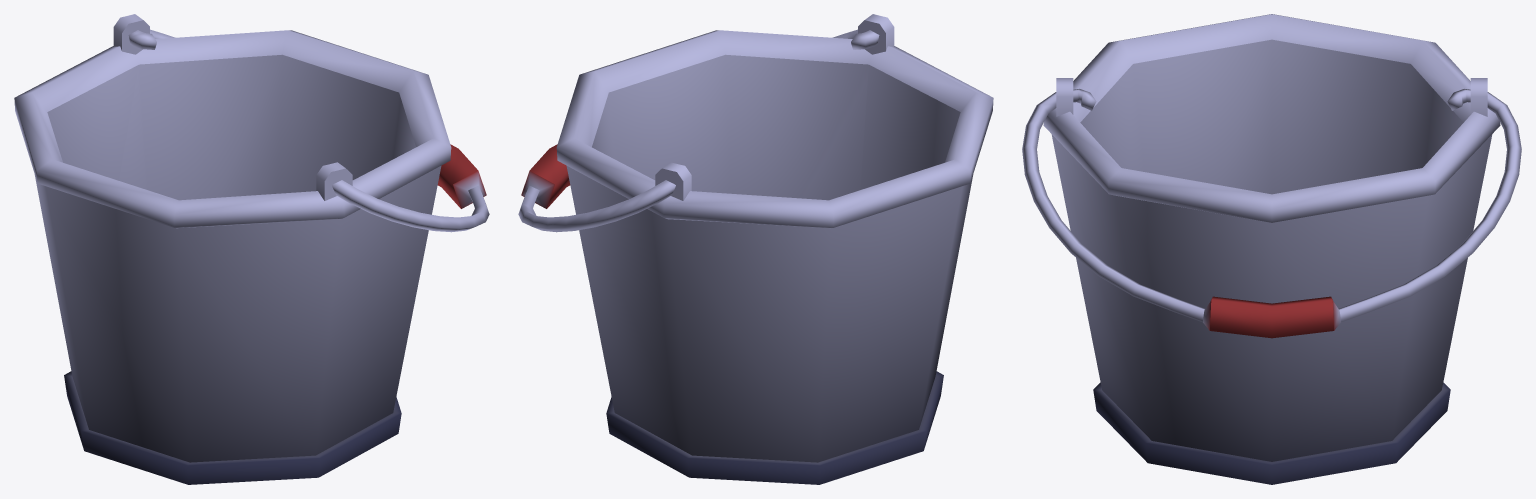
The model's file is Bucket.fbx.
3 renders of one model, left to right at view 1: azimuth 30°, elevation 25°; view 2: azimuth 150°, elevation 25°; view 3: azimuth 270°, elevation 25°, orthographic. The views are drawn at different scales.
Parts seen in each view (by area): view 1: Bucket; view 2: Bucket; view 3: Bucket.
Part boxes in pixels (<box>): Bucket: <box>14,14,489,484</box>; Bucket: <box>518,14,993,484</box>; Bucket: <box>1022,14,1521,484</box>.
Size of the model in its own units: 79.4 by 56.84 by 78.2.
